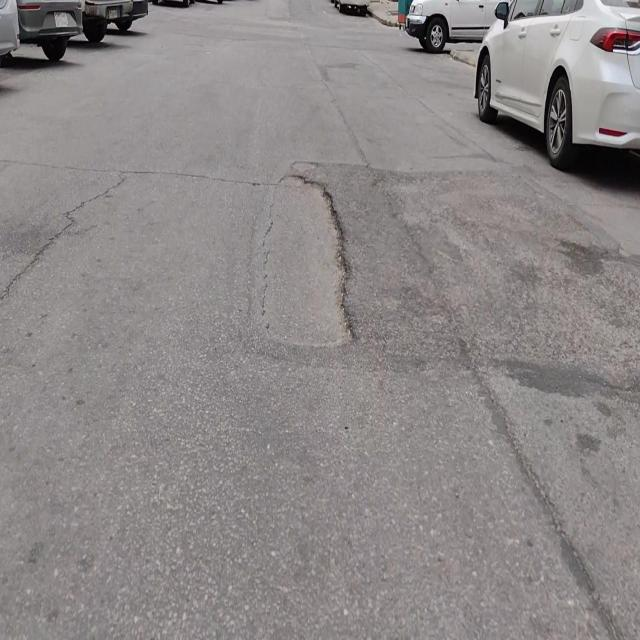Pothole: (262, 169, 357, 352)
